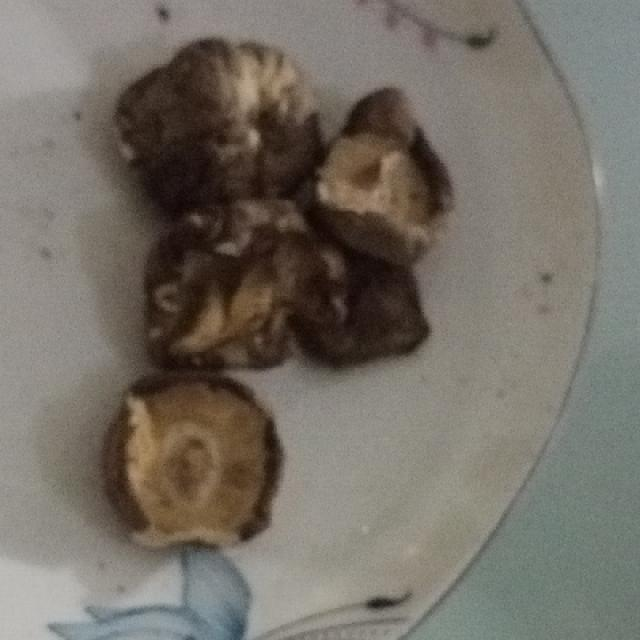Lentinus edodes: (108, 371, 291, 547), (118, 41, 321, 197), (138, 208, 308, 368), (314, 90, 454, 255)
